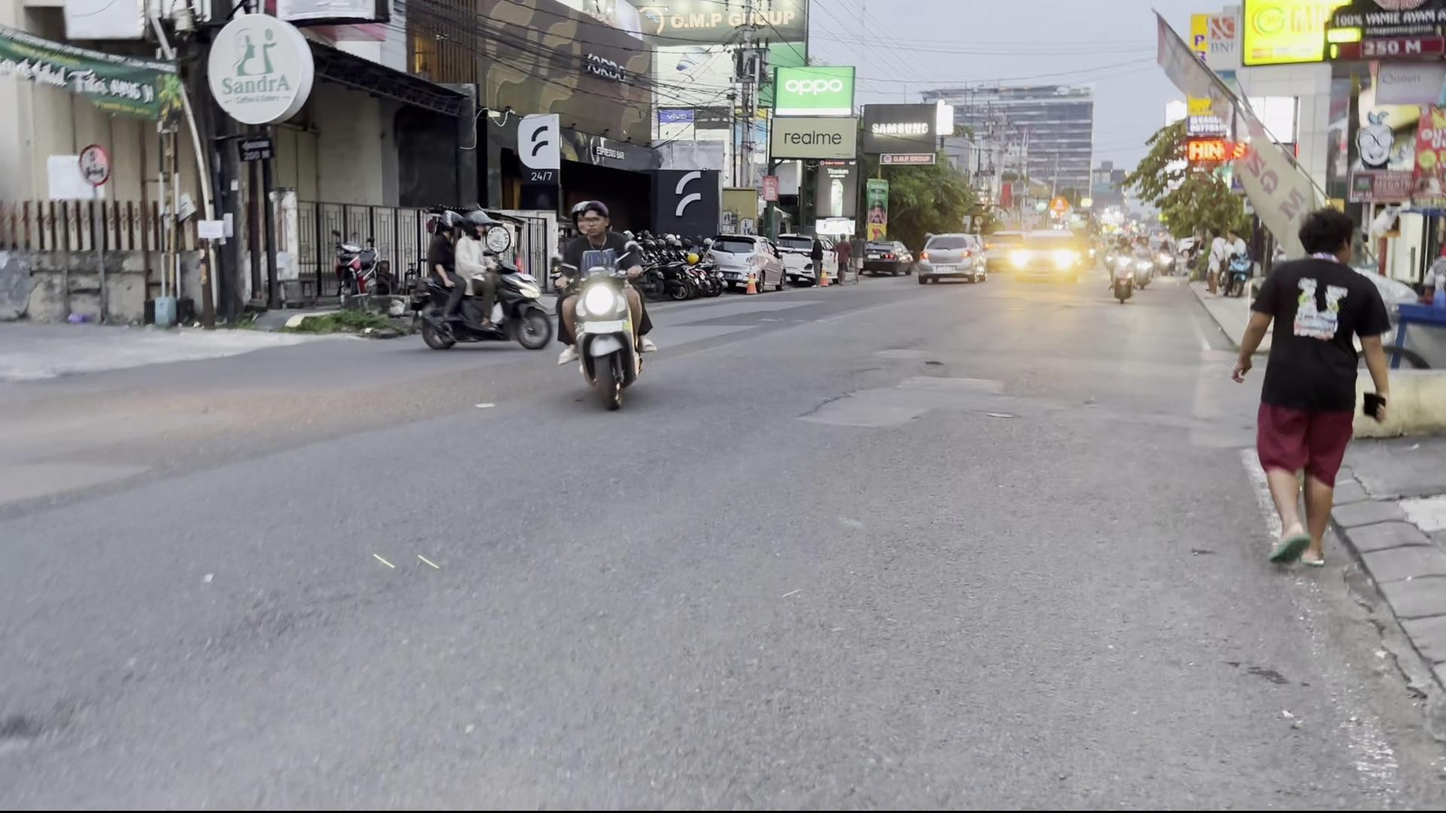nohelm: (582, 201, 612, 238)
riding: (551, 199, 662, 412)
